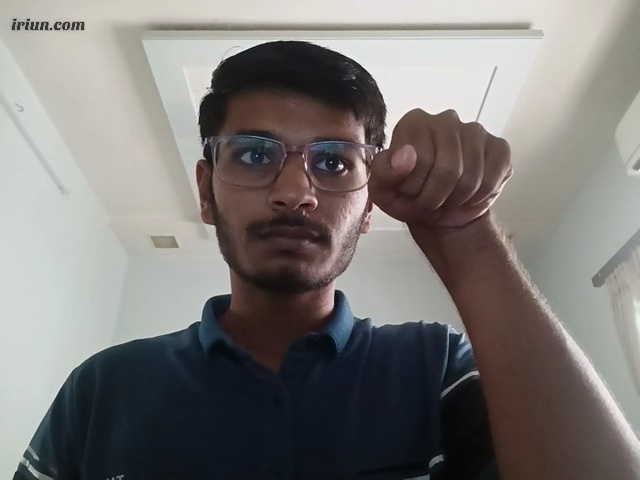Yes: (355, 103, 525, 238)
